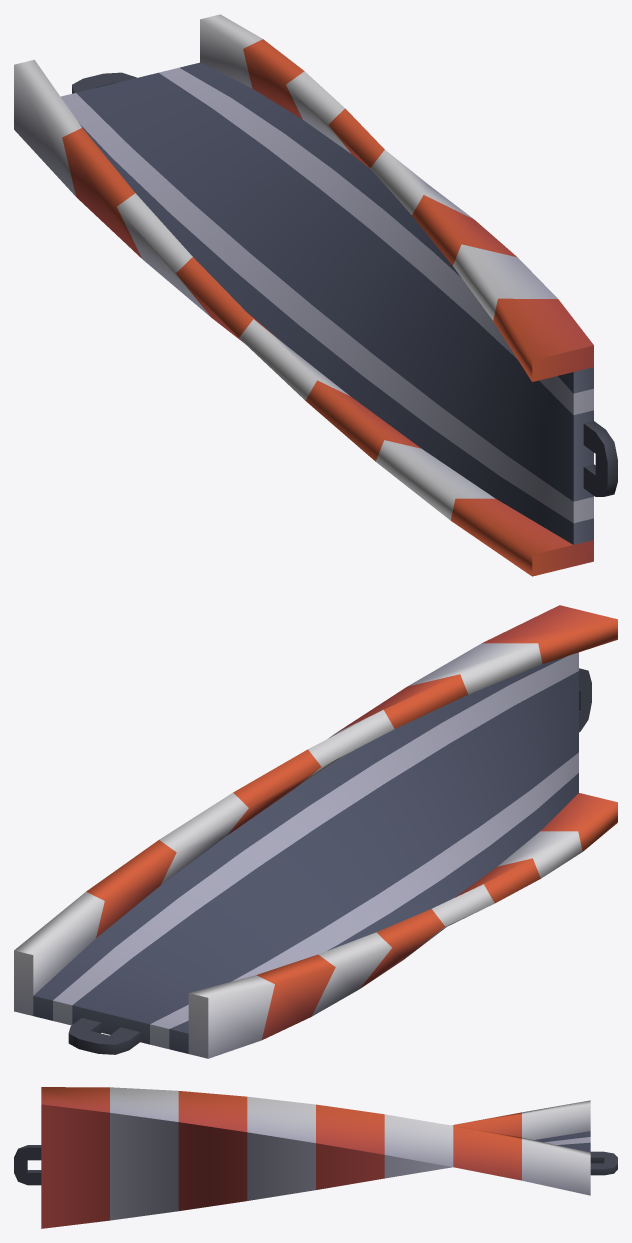
Rendered from track-road-narrow-straight-skew-right-side.glb.
The picture shows the model from 3 angles, top to bottom: view 1: azimuth 30°, elevation 25°; view 2: azimuth 150°, elevation 25°; view 3: azimuth 270°, elevation 25°; orthographic projection. The views are drawn at different scales.
Parts seen in each view (by area): view 1: track-road-narrow-straight-skew-right-side; view 2: track-road-narrow-straight-skew-right-side; view 3: track-road-narrow-straight-skew-right-side.
Boxes of the visible parts, x1,y1,x2,y2 form: track-road-narrow-straight-skew-right-side: [14, 14, 617, 576]; track-road-narrow-straight-skew-right-side: [14, 605, 617, 1058]; track-road-narrow-straight-skew-right-side: [14, 1087, 617, 1228].
Bounding box in the file's own units: 1.08 × 1.08 × 4.4.
